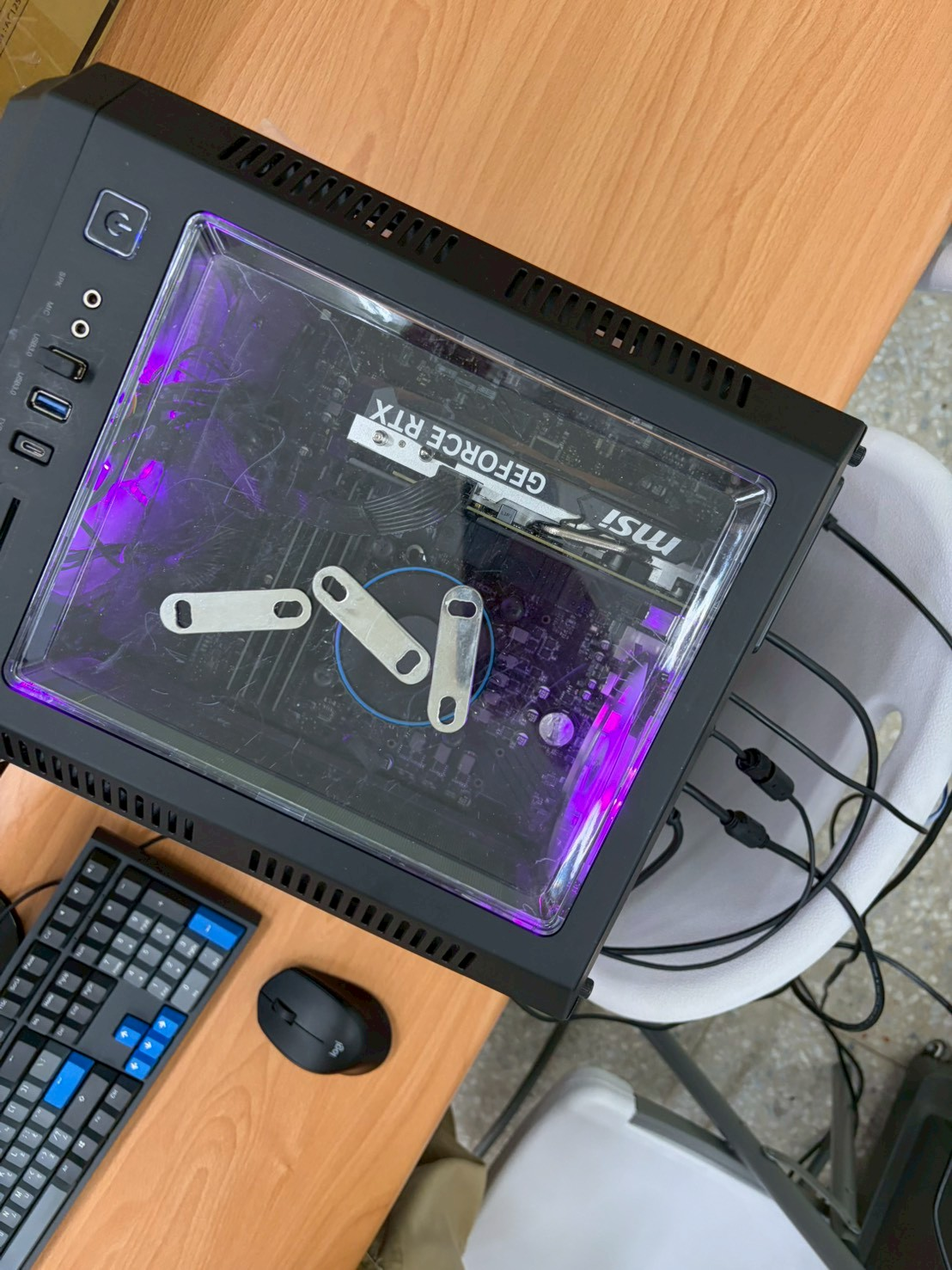Fe: (332, 557, 483, 599), (160, 593, 310, 635), (488, 589, 637, 631)
